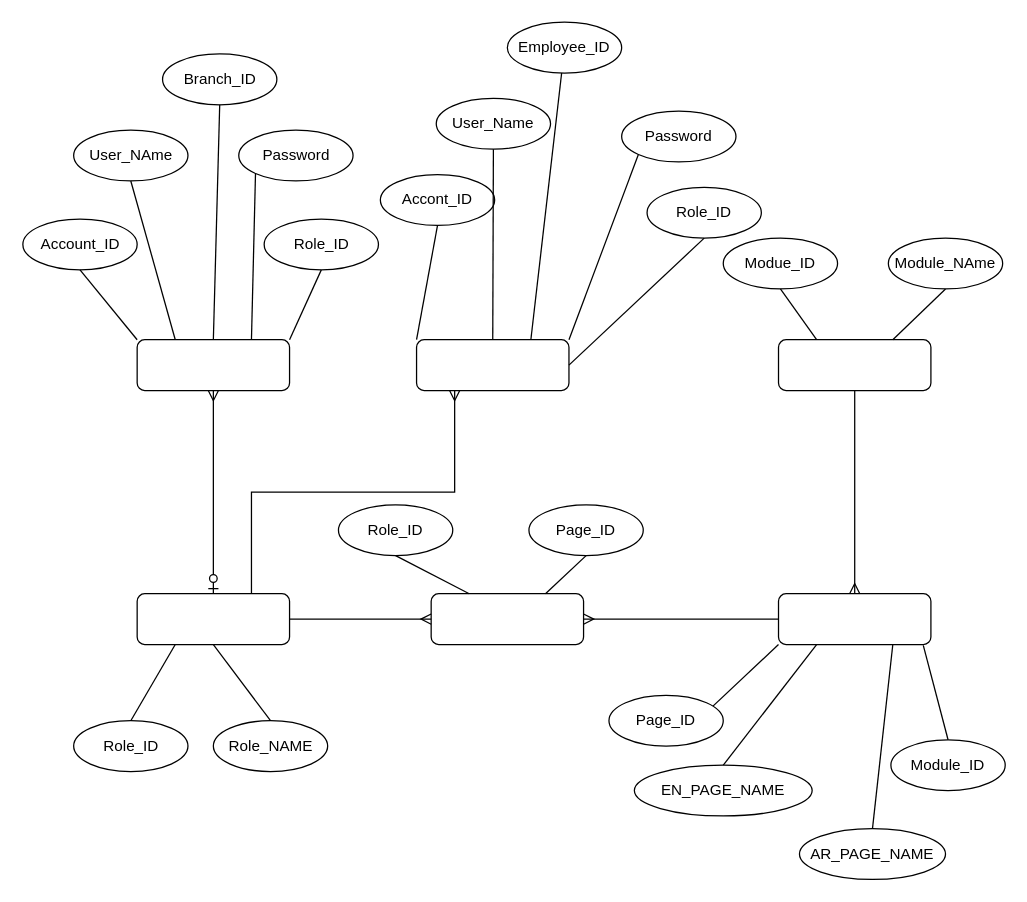
This 1027x902 diagram has some shape labels left out. The centre of each missing label's shape, as x and y in pixels:
Branch_Accounts: the point at 213,364
Employees_Accounts: the point at 492,364
Modules: the point at 854,364
Pages: the point at 854,618
Role_Pages: the point at 507,618
Roles: the point at 213,618
